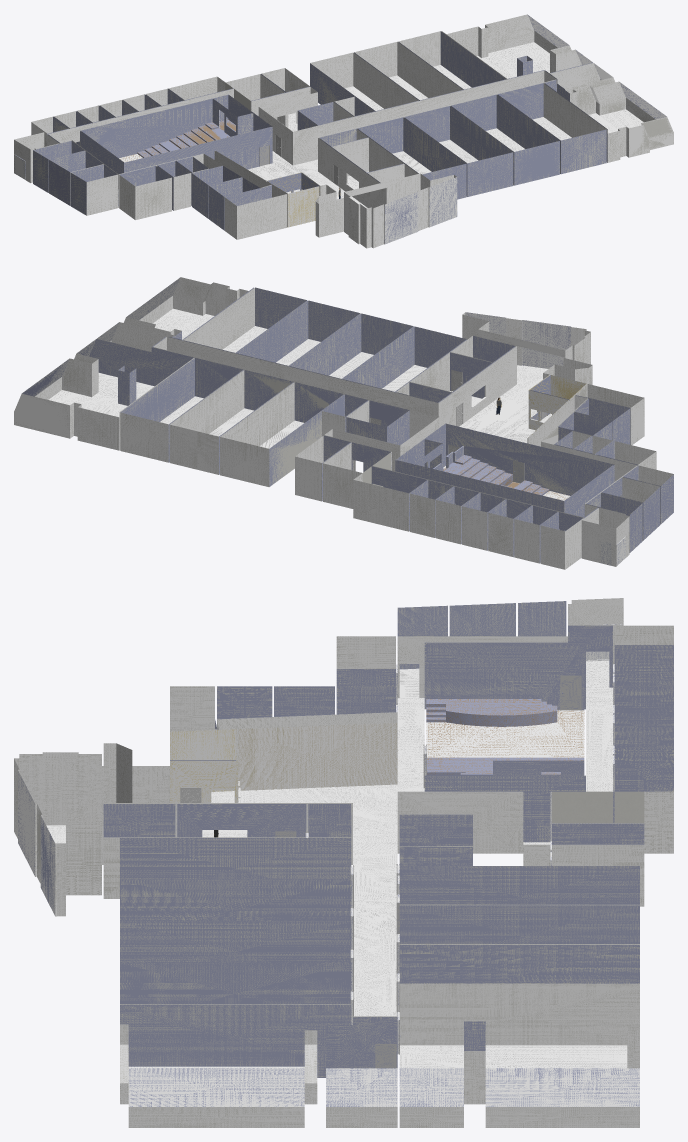
Rendered from Beta4.fbx.
3 renders of one model, top to bottom at view 1: azimuth 30°, elevation 25°; view 2: azimuth 150°, elevation 25°; view 3: azimuth 270°, elevation 25°, orthographic. The views are drawn at different scales.
Visible parts, largest first — view 1: Map1; view 2: Map1; view 3: Map1.
Part boxes in pixels (<box>): Map1: <box>14,14,673,248</box>; Map1: <box>14,277,673,569</box>; Map1: <box>14,598,673,1127</box>.
Bounding box in the file's own units: 61.77 × 4.5 × 36.79.
